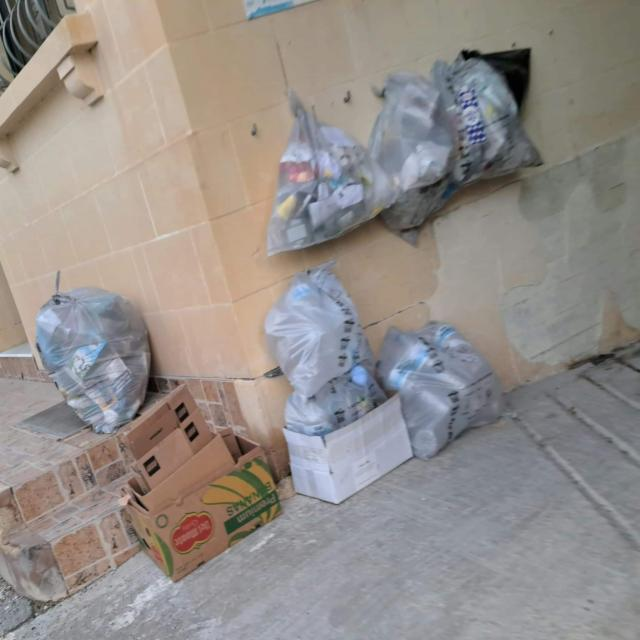Other: (114, 383, 287, 580), (287, 367, 416, 504), (433, 53, 551, 186)
Recycled Waste -Grey or Green Bag-: (259, 96, 398, 253), (377, 323, 508, 459), (34, 286, 153, 434), (369, 75, 463, 250), (267, 265, 364, 388)
